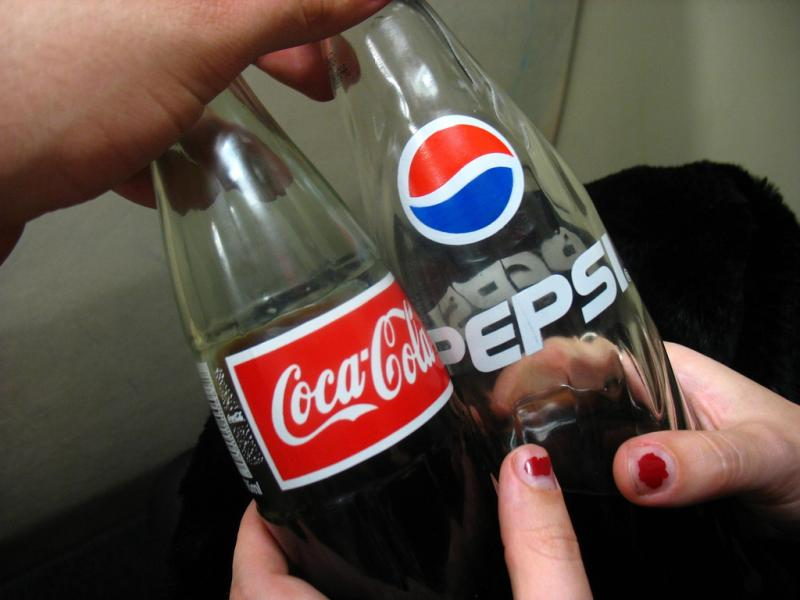pepsi: (381, 113, 524, 246), (381, 121, 524, 246), (395, 113, 524, 246)
